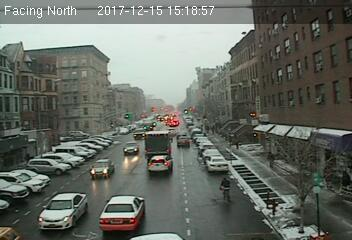bicycle: (219, 176, 231, 203)
car: (36, 191, 88, 229), (98, 196, 145, 231), (90, 159, 115, 179), (146, 154, 172, 172), (207, 156, 229, 172), (123, 142, 140, 155), (177, 135, 189, 145)
truck: (143, 131, 171, 154)
